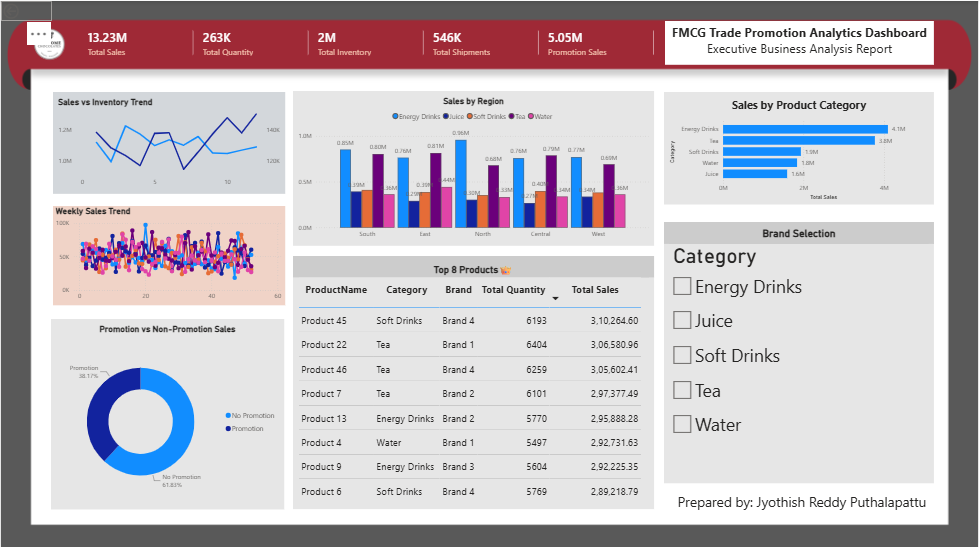

The dashboard page shown, as its layout file describes it:
{"tool":"powerbi","page":{"name":"BI Report","canvas":[1920,1080],"ordinal":0},"visuals":[{"type":"textbox","box":[1302.4,961,541.5,53.7],"z":0},{"type":"lineChart","title":"Sales vs Inventory Trend","fields":{"Category":["Calendar (2).Month"],"Y":["POSSales.Total Sales"],"Y2":["Inventory.Total Inventory"]},"box":[102.4,178,456.1,200],"z":1000},{"type":"actionButton","box":[0,0,100,40],"z":2000},{"type":"lineChart","title":"Weekly Sales Trend","fields":{"Category":["Calendar (2).Week"],"Series":["RegionMaster.Region"],"Y":["POSSales.Total Sales"]},"box":[102.4,402.4,456.1,195.1],"z":3000},{"type":"donutChart","title":"Promotion vs Non-Promotion Sales","fields":{"Category":["POSSales.Promotion Status"],"Y":["POSSales.Total Sales"]},"box":[98.4,623.5,457.8,374.1],"z":4000},{"type":"tableEx","title":"Top 8 Products👑","fields":{"Values":["ProductMaster.ProductName","ProductMaster.Category","ProductMaster.Brand","POSSales.Total Quantity","POSSales.Total Sales"]},"box":[574.3,500.4,708.8,497.2],"z":5000},{"type":"clusteredBarChart","title":"Sales by Product Category","fields":{"Category":["ProductMaster.Category"],"Y":["POSSales.Total Sales"]},"box":[1302.2,177.8,530.2,221.4],"z":6000},{"type":"slicer","title":"Brand Selection","fields":{"Values":["ProductMaster.Category"]},"box":[1302.2,433.5,530.2,513.1],"z":7000},{"type":"clusteredColumnChart","title":"Sales by Region","fields":{"Category":["RegionMaster.Region"],"Series":["ProductMaster.Category"],"Y":["POSSales.Total Sales"]},"box":[574.3,177.2,708.8,303.5],"z":8000},{"type":"cardVisual","fields":{"Data":["POSSales.Total Sales","POSSales.Total Quantity","Inventory.Total Inventory","DistributorSales.Total Shipments","POSSales.Promotion Sales"]},"box":[142.5,40,1160,85],"z":9000},{"type":"textbox","box":[1303.2,40.2,528.3,85.8],"z":9001}]}

Visuals, with their boxes in screenshot pixels (x1, y1, x2, y2), scaled from the page's 1920x1080 canvas onto the 979x547 screenshot:
textbox: detection(664, 487, 940, 514)
"Sales vs Inventory Trend" lineChart: detection(52, 90, 285, 191)
actionButton: detection(0, 0, 51, 20)
"Weekly Sales Trend" lineChart: detection(52, 204, 285, 303)
"Promotion vs Non-Promotion Sales" donutChart: detection(50, 316, 284, 505)
"Top 8 Products👑" tableEx: detection(293, 253, 654, 505)
"Sales by Product Category" clusteredBarChart: detection(664, 90, 934, 202)
"Brand Selection" slicer: detection(664, 220, 934, 479)
"Sales by Region" clusteredColumnChart: detection(293, 90, 654, 243)
cardVisual - POSSales.Total Sales x POSSales.Total Quantity: detection(73, 20, 664, 63)
textbox: detection(664, 20, 934, 64)
